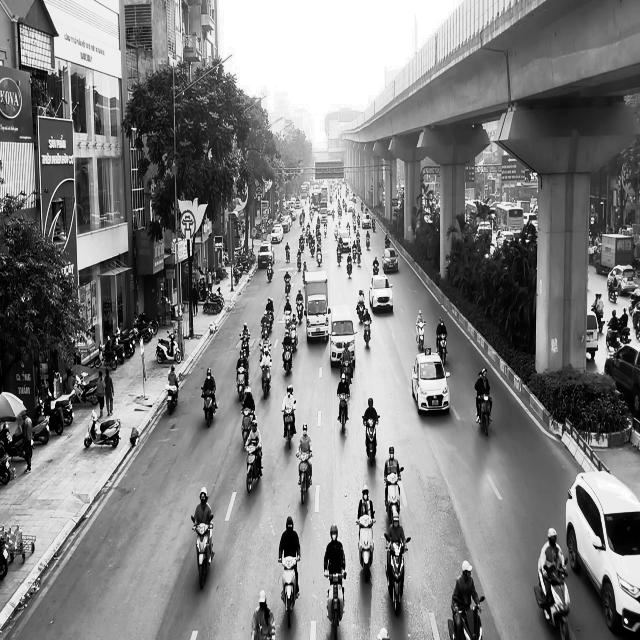car: (565, 470, 640, 634), (412, 348, 451, 415), (369, 274, 393, 312), (382, 248, 398, 272)
motorbike: (534, 562, 570, 640), (383, 532, 410, 616), (191, 515, 214, 589), (324, 562, 346, 639), (447, 595, 485, 639), (278, 555, 300, 628), (84, 410, 121, 448), (355, 516, 376, 582), (384, 467, 403, 527), (244, 442, 263, 493), (362, 414, 379, 466), (296, 452, 312, 504), (281, 401, 296, 450), (200, 385, 217, 427), (476, 393, 492, 436), (240, 407, 256, 449), (337, 391, 349, 434), (259, 361, 272, 398), (165, 379, 179, 413), (235, 366, 248, 401), (282, 340, 292, 374), (436, 334, 447, 364), (416, 321, 426, 350), (363, 319, 371, 348)
truck: (303, 270, 329, 342)
